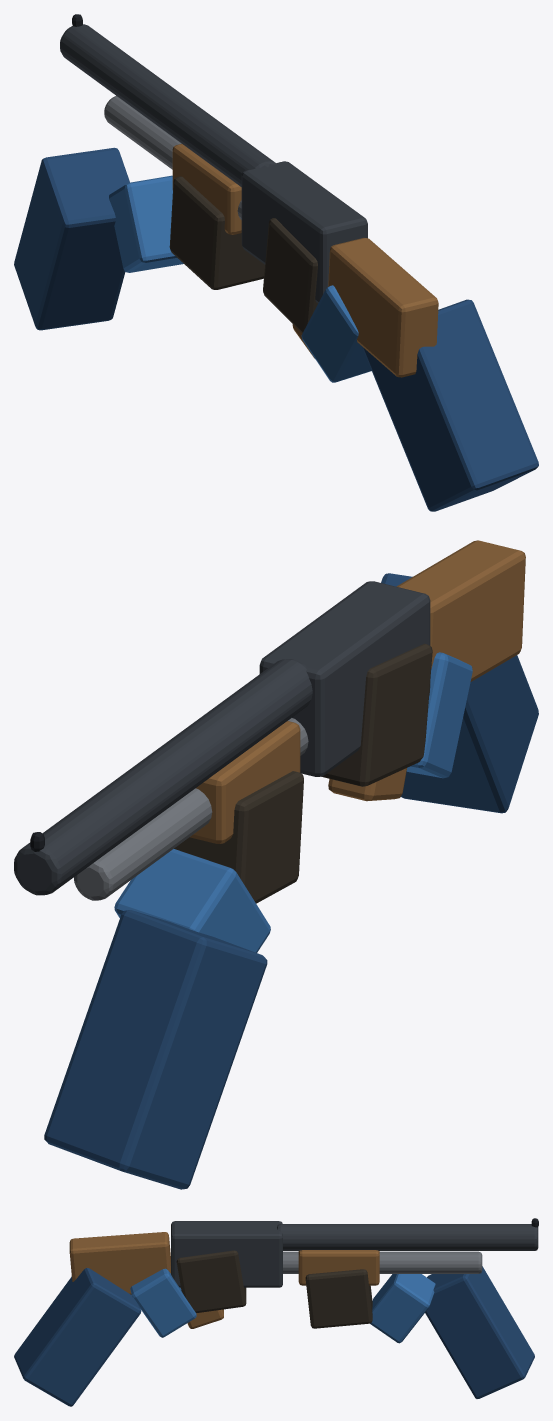
3 views of the same model, one above another, from view 1: azimuth 30°, elevation 25°; view 2: azimuth 150°, elevation 25°; view 3: azimuth 270°, elevation 25° (orthographic). The views are drawn at different scales.
Parts seen in each view (by area): view 1: fp_sg; view 2: fp_sg; view 3: fp_sg.
Part boxes in pixels (box(x1,y1,x2,y2)): fp_sg: box(14, 14, 538, 511); fp_sg: box(14, 540, 538, 1189); fp_sg: box(14, 1218, 538, 1406).
Bounding box in the file's own units: 0.2235 × 0.327 × 0.8433.
